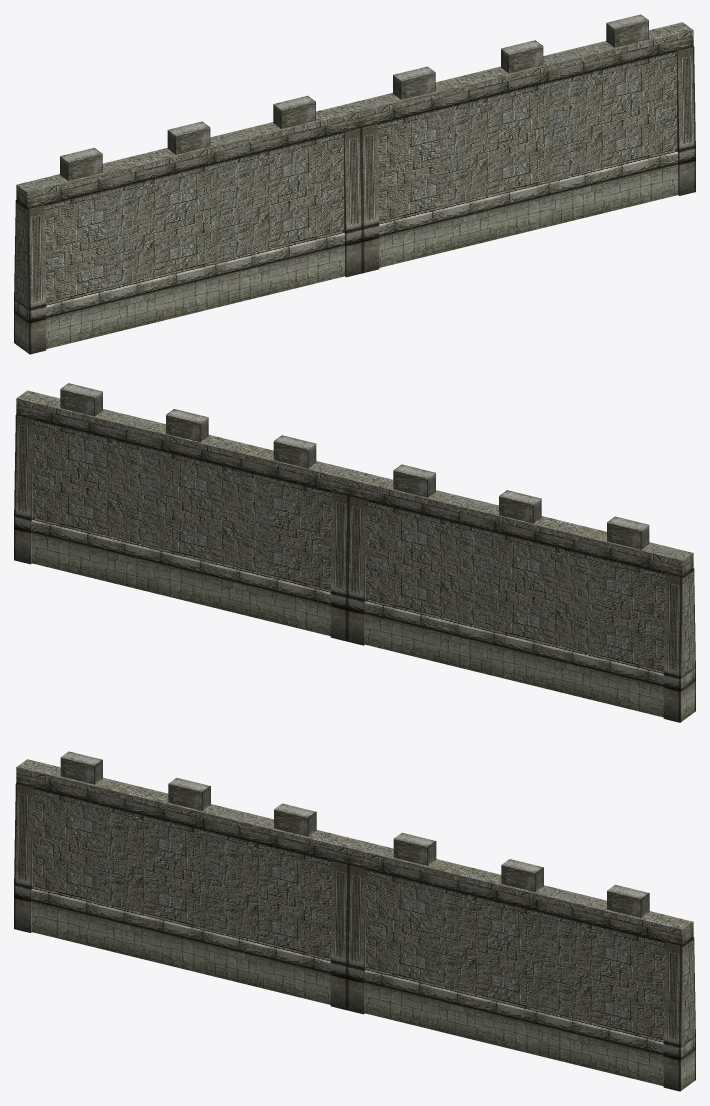
The model's file is ob-bigdam-03.fbx.
3 views of the same model, one above another, from view 1: azimuth 30°, elevation 25°; view 2: azimuth 150°, elevation 25°; view 3: azimuth 330°, elevation 25° (orthographic).
Parts seen in each view (by area): view 1: ob-bigdam-01; view 2: ob-bigdam-01; view 3: ob-bigdam-01.
Boxes of the visible parts, x1=… form: ob-bigdam-01: x1=14, y1=14, x2=695, y2=354; ob-bigdam-01: x1=14, y1=383, x2=695, y2=722; ob-bigdam-01: x1=14, y1=751, x2=695, y2=1091.
Bounding box in the file's own units: 20.01 × 5.14 × 0.8224.
